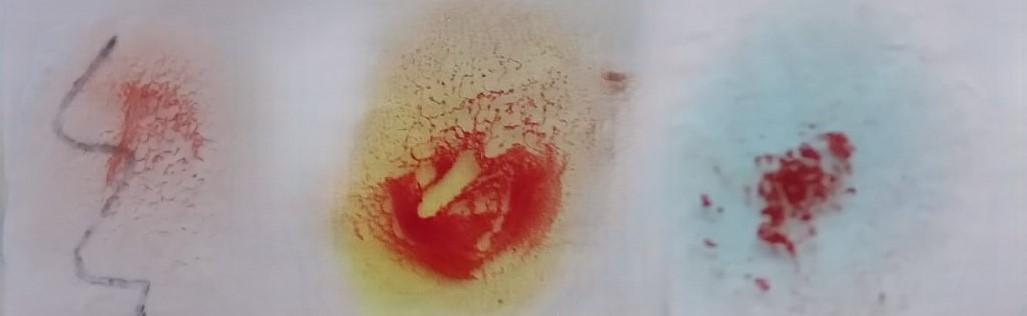A: (704, 36, 903, 316)
B: (356, 12, 595, 316)
D: (58, 29, 205, 282)
